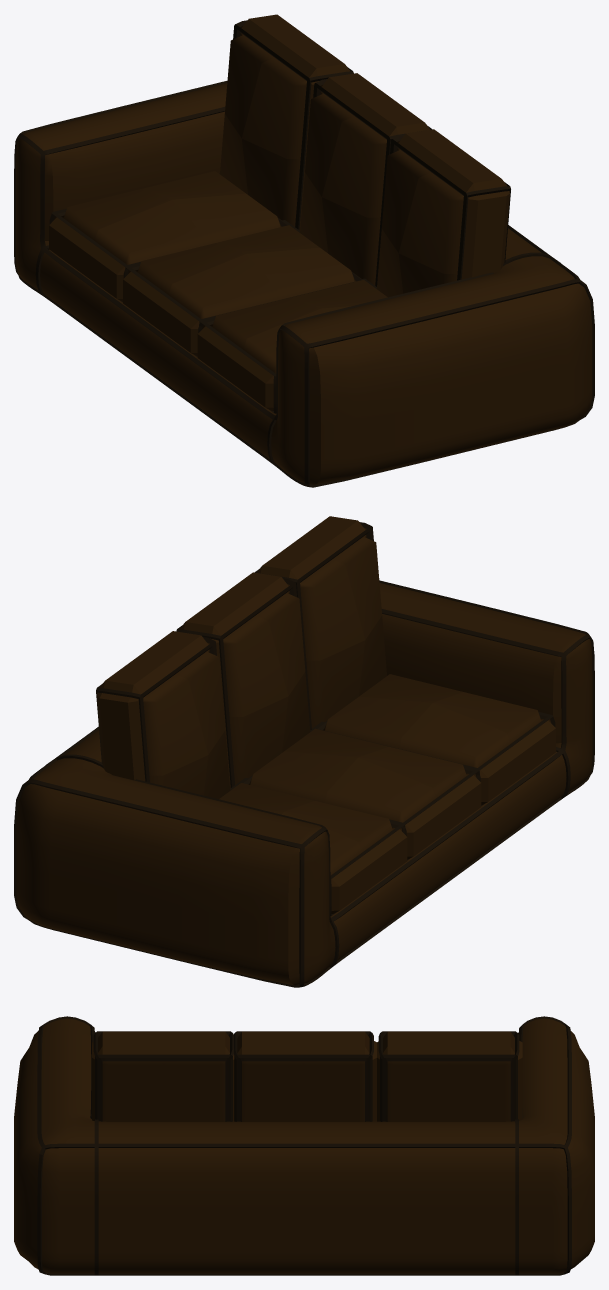
Rendered from Couch.obj.
3 renders of one model, top to bottom at view 1: azimuth 30°, elevation 25°; view 2: azimuth 150°, elevation 25°; view 3: azimuth 270°, elevation 25°, orthographic. The views are drawn at different scales.
Parts seen in each view (by area): view 1: Couch:Couch1; view 2: Couch:Couch1; view 3: Couch:Couch1.
Part boxes in pixels (x1=…): Couch:Couch1: x1=14, y1=14, x2=594, y2=487; Couch:Couch1: x1=14, y1=516, x2=594, y2=987; Couch:Couch1: x1=14, y1=1016, x2=594, y2=1275.
Bounding box in the file's own units: 8.93 × 6.62 × 16.37.
